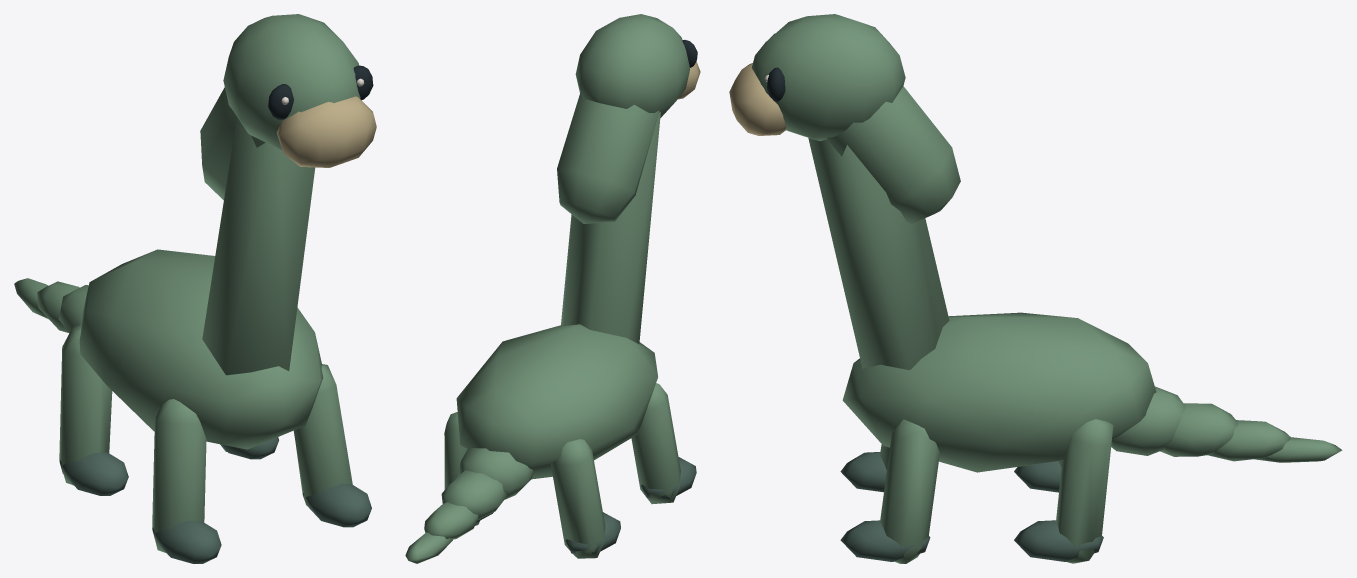
The model's file is org_camarasaurus.glb.
3 renders of one model, left to right at view 1: azimuth 30°, elevation 25°; view 2: azimuth 150°, elevation 25°; view 3: azimuth 270°, elevation 25°, orthographic. The views are drawn at different scales.
Visible parts, largest first — view 1: Body, Head, Leg_FR, Leg_BR, Leg_FL, Tail, Eye_R, Leg_BL, Eye_L; view 2: Body, Head, Tail, Leg_BR, Leg_FR, Leg_BL; view 3: Body, Head, Tail, Leg_FL, Leg_BL, Leg_FR, Leg_BR.
Boxes of the visible parts, x1=… form: Body: x1=79, y1=117, x2=323, y2=449; Head: x1=200, y1=14, x2=376, y2=200; Leg_FR: x1=152, y1=399, x2=221, y2=563; Leg_BR: x1=59, y1=325, x2=128, y2=495; Leg_FL: x1=293, y1=364, x2=371, y2=527; Tail: x1=14, y1=278, x2=88, y2=333; Eye_R: x1=268, y1=84, x2=293, y2=119; Leg_BL: x1=220, y1=437, x2=278, y2=459; Eye_L: x1=353, y1=65, x2=373, y2=100; Body: x1=456, y1=112, x2=660, y2=479; Head: x1=557, y1=14, x2=700, y2=223; Tail: x1=405, y1=448, x2=533, y2=563; Leg_BR: x1=551, y1=439, x2=620, y2=558; Leg_FR: x1=631, y1=383, x2=696, y2=504; Leg_BL: x1=444, y1=412, x2=493, y2=525; Body: x1=808, y1=138, x2=1156, y2=472; Head: x1=729, y1=14, x2=960, y2=223; Tail: x1=1111, y1=386, x2=1342, y2=462; Leg_FL: x1=840, y1=419, x2=939, y2=563; Leg_BL: x1=1014, y1=419, x2=1113, y2=563; Leg_FR: x1=840, y1=444, x2=889, y2=492; Leg_BR: x1=1014, y1=460, x2=1062, y2=492.
Size of the model in its own units: 0.9326 by 2.4 by 2.62.
